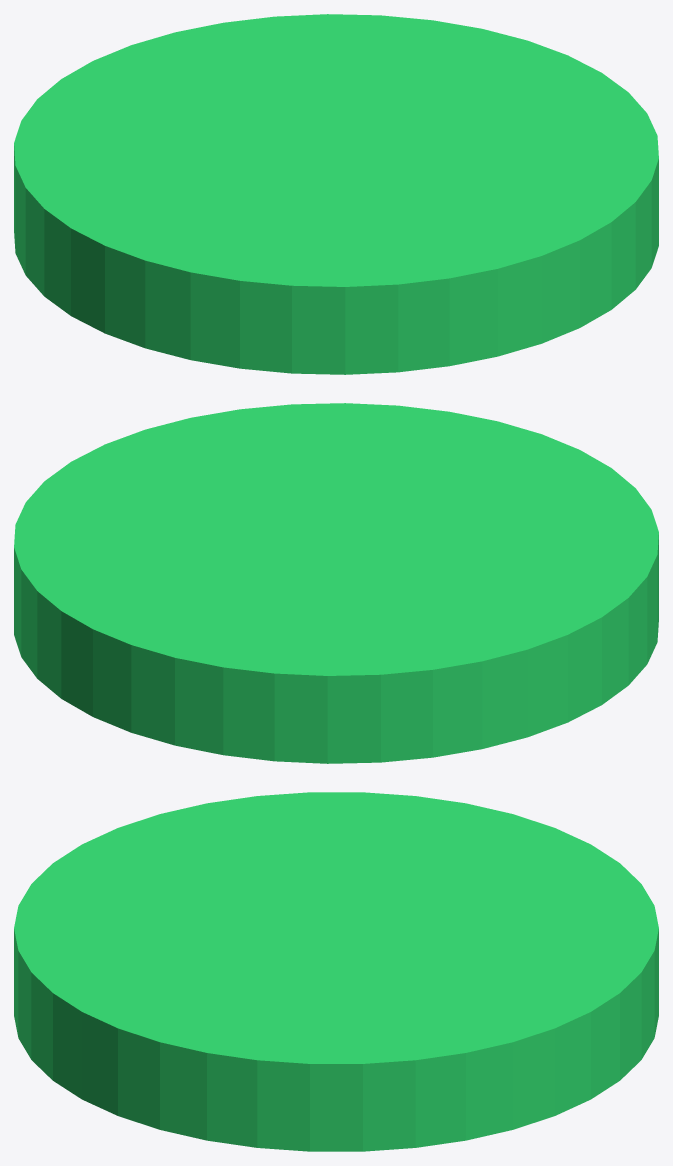
The model's file is bullseye1.glb.
3 renders of one model, top to bottom at view 1: azimuth 30°, elevation 25°; view 2: azimuth 150°, elevation 25°; view 3: azimuth 270°, elevation 25°, orthographic.
Parts seen in each view (by area): view 1: Cylinder; view 2: Cylinder; view 3: Cylinder.
Boxes of the visible parts, x1=… form: Cylinder: x1=14, y1=14, x2=658, y2=374; Cylinder: x1=14, y1=403, x2=658, y2=763; Cylinder: x1=14, y1=792, x2=658, y2=1151.
Bounding box in the file's own units: 0.7973 × 0.12 × 0.8.
